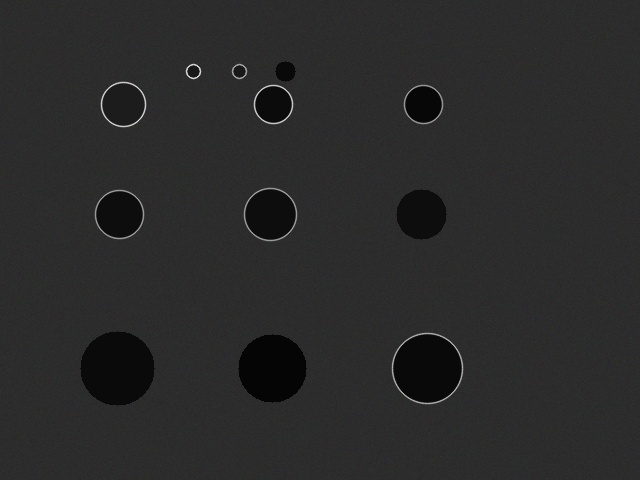hole: (80, 331, 154, 405), (392, 333, 462, 403), (238, 334, 306, 402), (244, 188, 296, 240), (396, 189, 446, 239), (95, 190, 143, 238), (101, 82, 145, 126), (254, 85, 292, 123), (404, 85, 442, 123), (275, 61, 295, 81), (186, 64, 200, 78), (232, 64, 246, 78)
